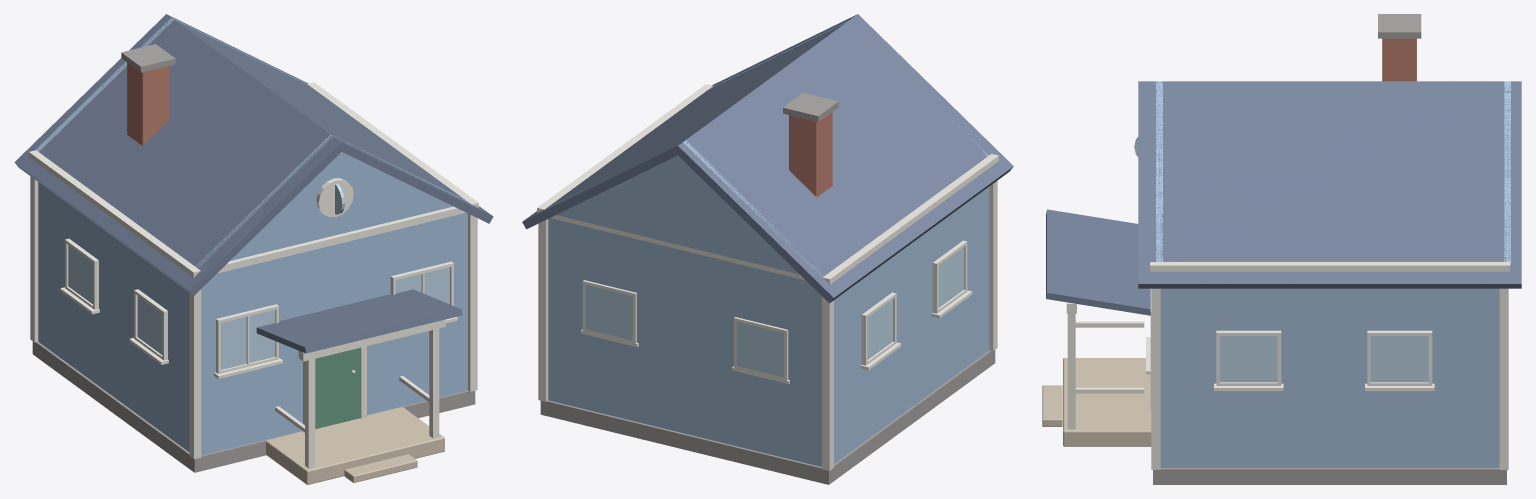
File: HouseBlueModel.glb
The picture shows the model from 3 angles, left to right: view 1: azimuth 30°, elevation 25°; view 2: azimuth 150°, elevation 25°; view 3: azimuth 270°, elevation 25°; orthographic projection. The views are drawn at different scales.
Visible parts, largest first — view 1: HouseBlueModel; view 2: HouseBlueModel; view 3: HouseBlueModel.
Part boxes in pixels (bbox=[...]): HouseBlueModel: bbox=[14, 14, 493, 484]; HouseBlueModel: bbox=[522, 14, 1013, 484]; HouseBlueModel: bbox=[1042, 14, 1521, 484].
Bounding box in the file's own units: 6.6 × 6.61 × 8.26.
